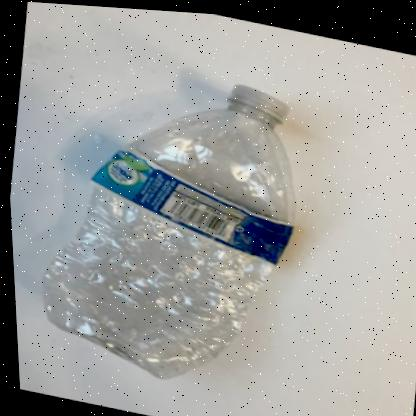Plastic: (39, 80, 293, 377)
